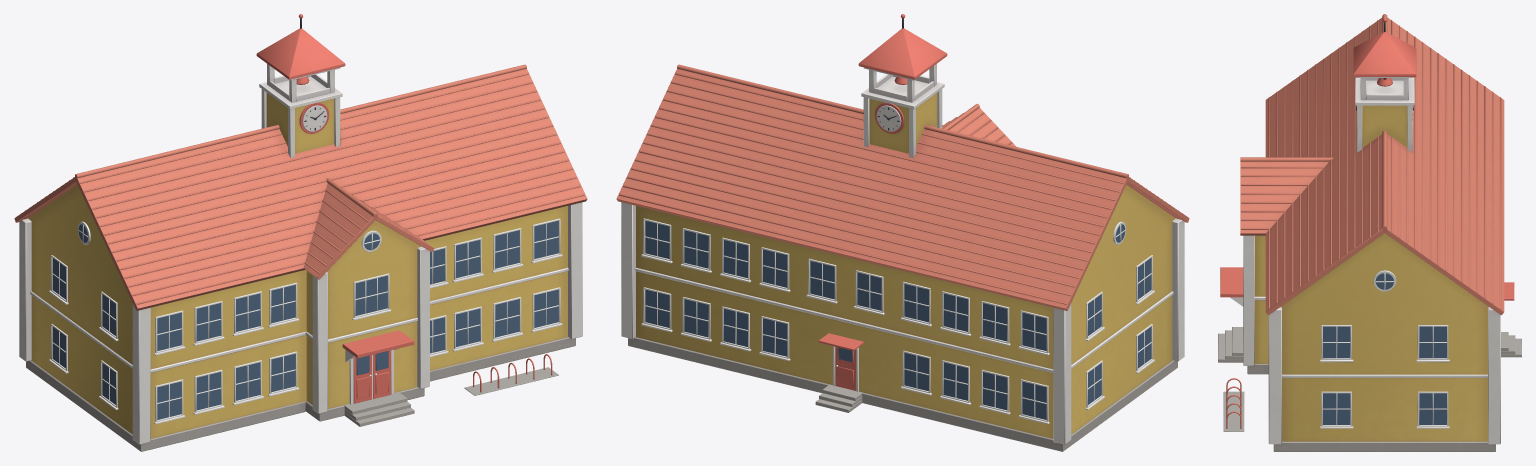
File: school-building.glb
3 views of the same model, side by side, from view 1: azimuth 30°, elevation 25°; view 2: azimuth 150°, elevation 25°; view 3: azimuth 270°, elevation 25° (orthographic). The views are drawn at different scales.
Parts seen in each view (by area): view 1: school-building_body, school-building_details; view 2: school-building_body, school-building_details; view 3: school-building_body, school-building_details.
Part boxes in pixels (bbox=[...]): school-building_body: bbox=[14, 14, 587, 451]; school-building_details: bbox=[49, 218, 562, 426]; school-building_body: bbox=[616, 14, 1189, 451]; school-building_details: bbox=[641, 218, 1154, 424]; school-building_body: bbox=[1240, 14, 1504, 451]; school-building_details: bbox=[1218, 267, 1521, 431].
Size of the model in its own units: 22.9 by 16.69 by 13.86.
5 materials, 1 textured.
